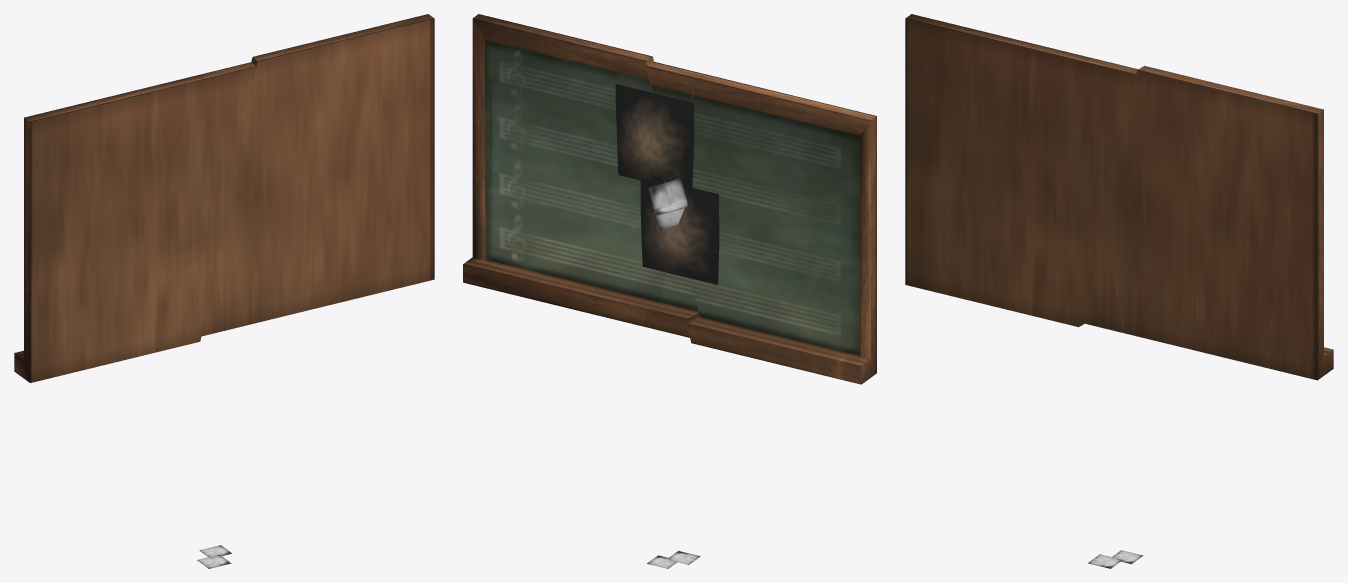
File: a_SWGbod03B.glb
3 renders of one model, left to right at view 1: azimuth 30°, elevation 25°; view 2: azimuth 150°, elevation 25°; view 3: azimuth 330°, elevation 25°, orthographic. The views are drawn at different scales.
Parts seen in each view (by area): view 1: a_SWGbod03B; view 2: a_SWGbod03B; view 3: a_SWGbod03B.
Boxes of the visible parts, x1,y1,x2,y2 form: a_SWGbod03B: [14, 14, 434, 568]; a_SWGbod03B: [463, 14, 876, 568]; a_SWGbod03B: [905, 14, 1333, 568].
Bounding box in the file's own units: 2.27 × 2.66 × 0.264.
Materials: 3 (3 with a texture image).
